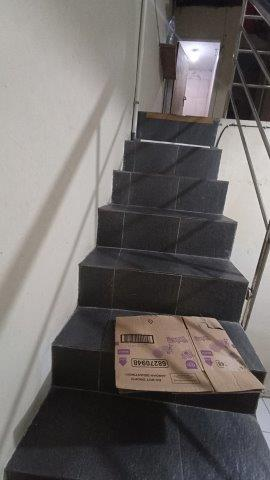kardus: (116, 316, 265, 393)
